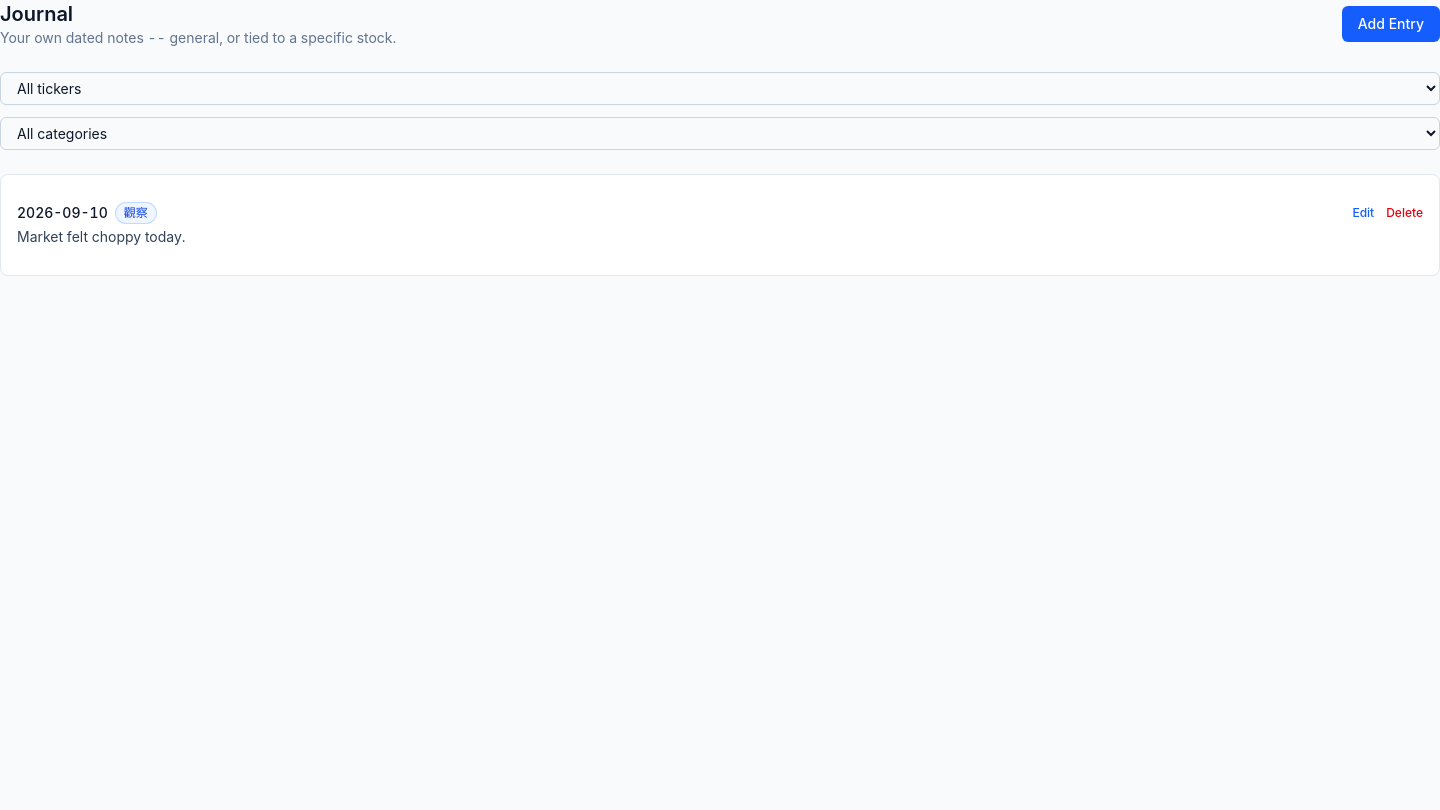
Journal page › edits an existing entry
Click the button "Edit" at (1363, 213), box [1352,205,1374,221]
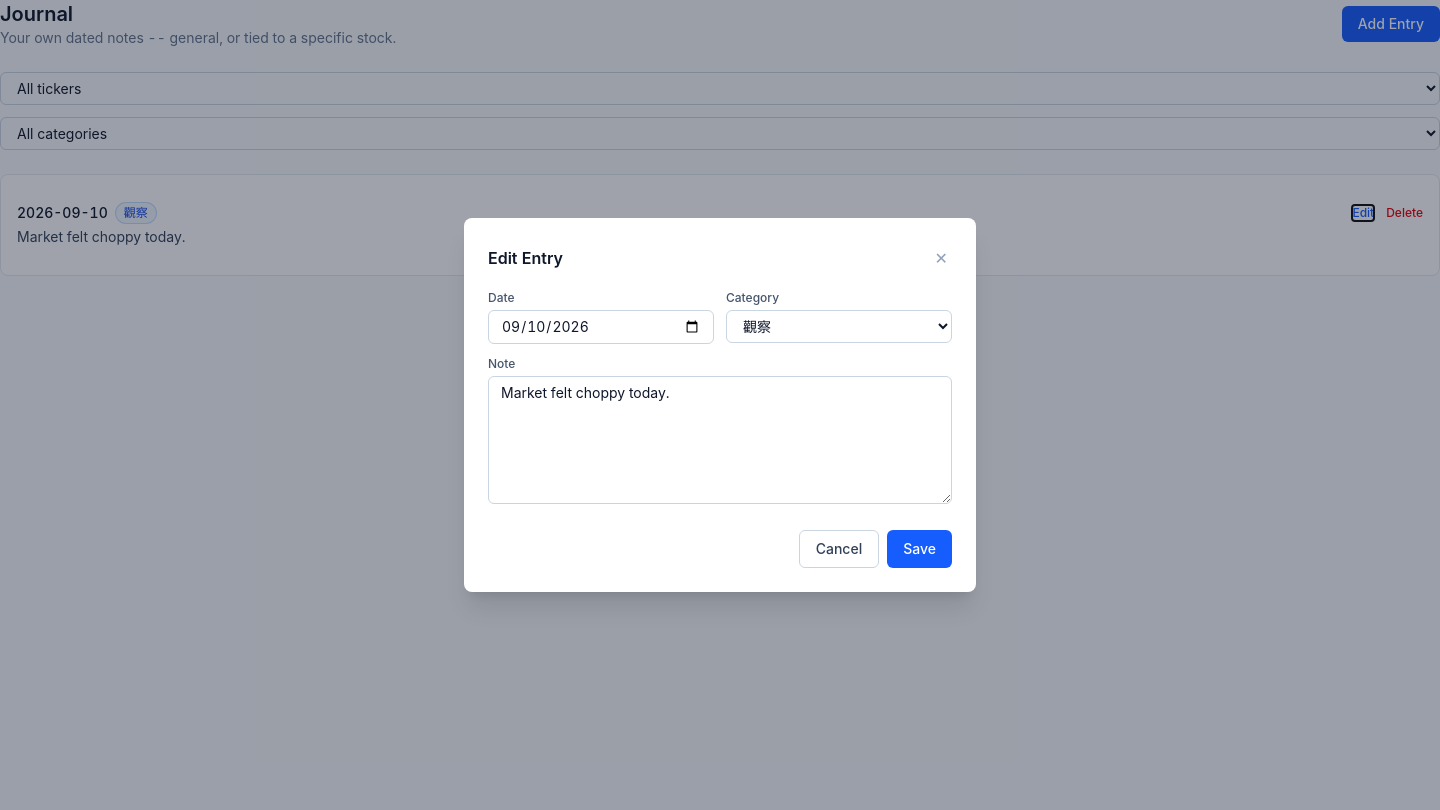
Result: the heading "Edit Entry" is shown at [488,246,563,270]
Click the button "Save" at (920, 549), box [887,530,952,568]
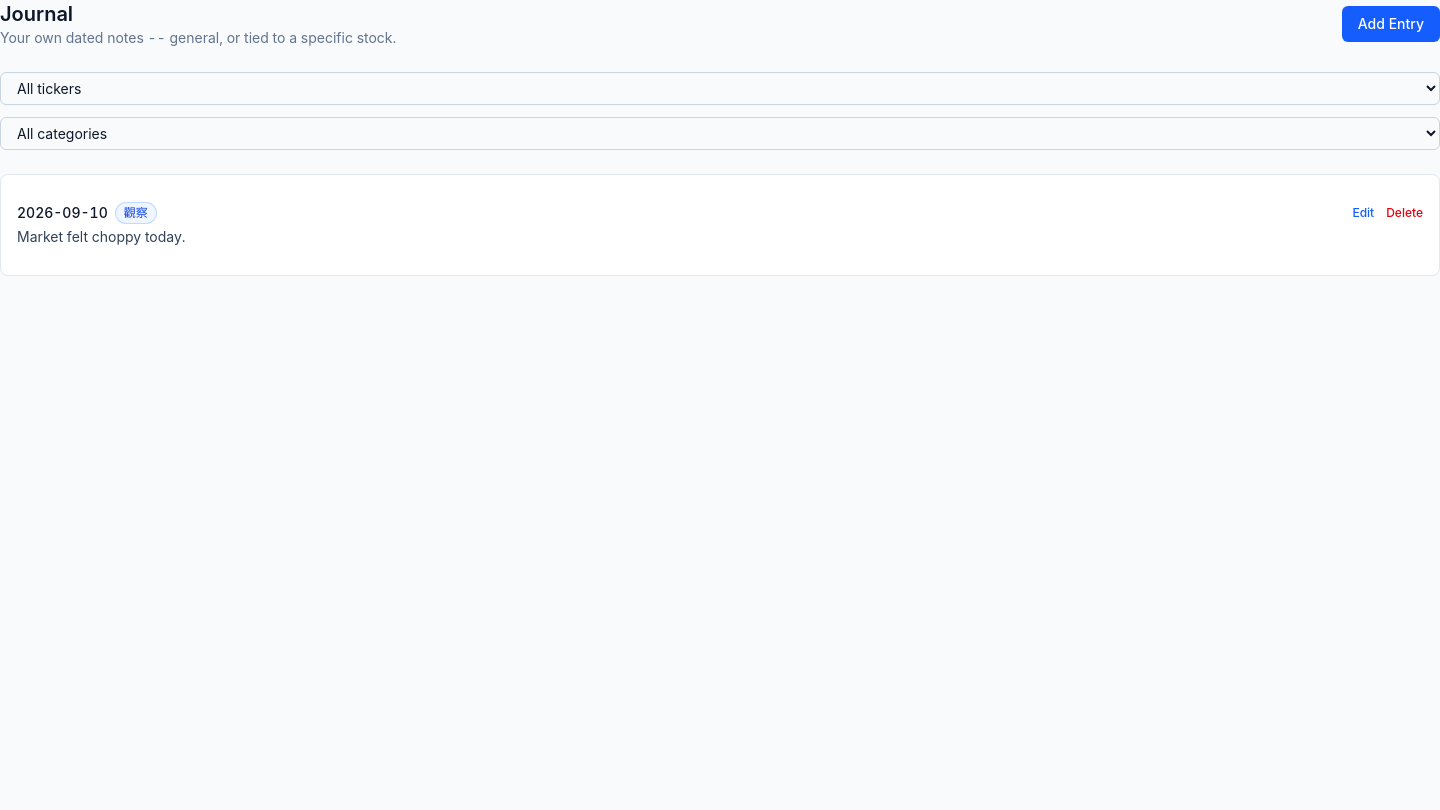
Result: the heading "Edit Entry" is gone
